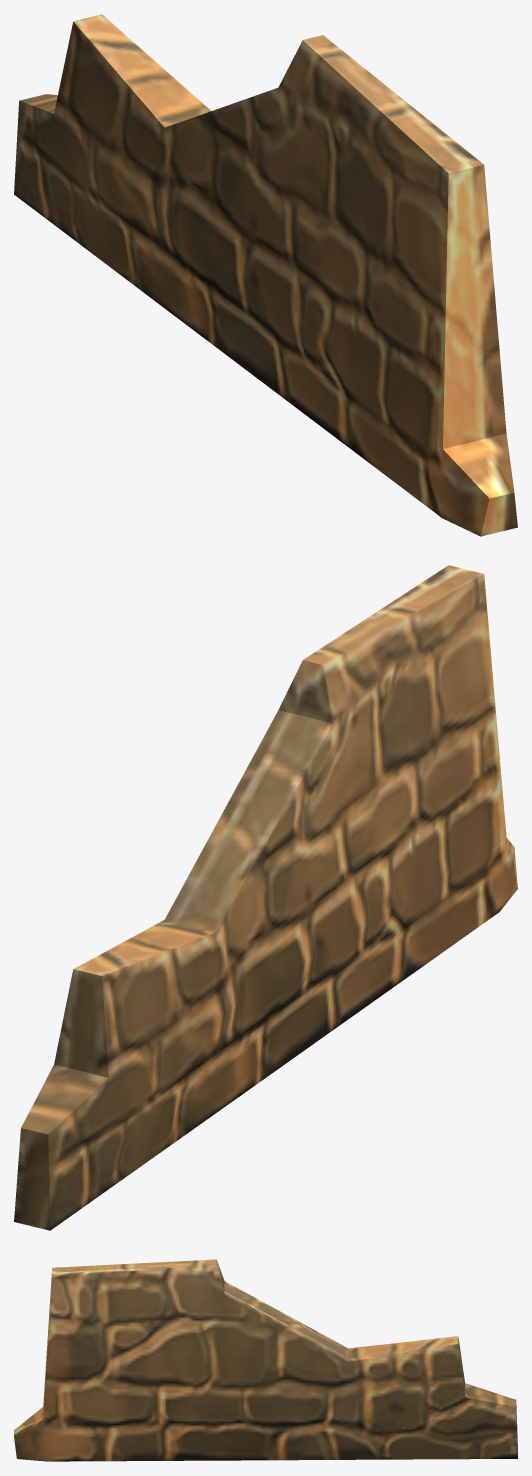
The model's file is Wall_2.fbx.
3 renders of one model, top to bottom at view 1: azimuth 30°, elevation 25°; view 2: azimuth 150°, elevation 25°; view 3: azimuth 270°, elevation 25°, orthographic. The views are drawn at different scales.
Parts seen in each view (by area): view 1: remnants_7; view 2: remnants_7; view 3: remnants_7.
Part boxes in pixels (box(x1,y1,x2,y2)): remnants_7: box(14, 14, 517, 536); remnants_7: box(14, 565, 517, 1230); remnants_7: box(14, 1259, 517, 1461).
Bounding box in the file's own units: 0.4242 × 2.07 × 4.92.
